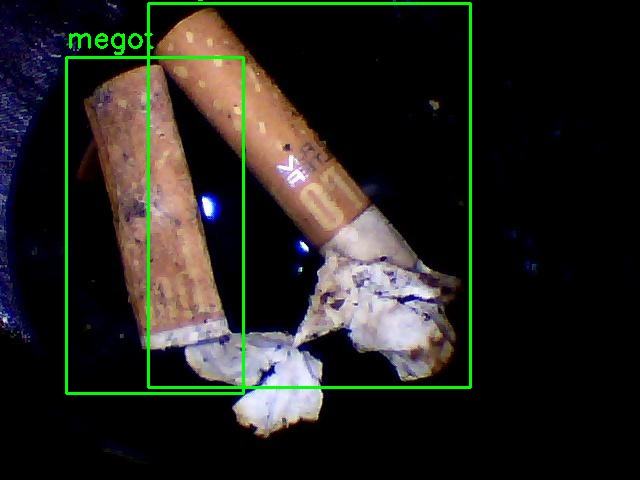megot: (148, 3, 470, 387), (66, 57, 243, 393)
